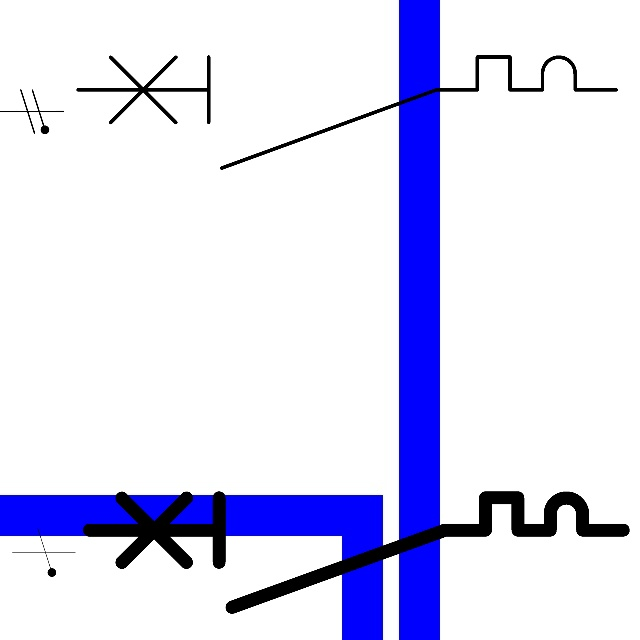interruptor_termomagnetico: (64, 43, 630, 181), (75, 484, 636, 621)
